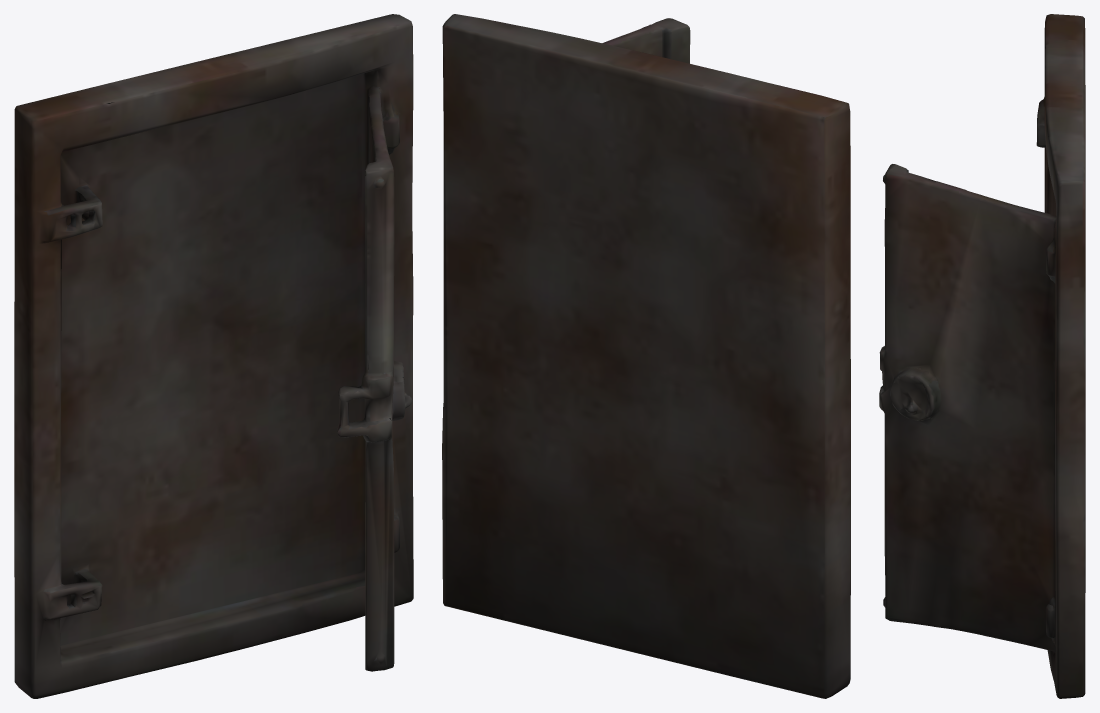
File: chipped-iron-cell-door-v001.glb
3 renders of one model, left to right at view 1: azimuth 30°, elevation 25°; view 2: azimuth 150°, elevation 25°; view 3: azimuth 270°, elevation 25°, orthographic. The views are drawn at different scales.
Parts seen in each view (by area): view 1: chipped-iron-cell-door; view 2: chipped-iron-cell-door; view 3: chipped-iron-cell-door.
Part boxes in pixels (x1,y1,x2,y2): chipped-iron-cell-door: (14,14,413,698); chipped-iron-cell-door: (442,14,850,698); chipped-iron-cell-door: (879,14,1085,698).
Bounding box in the file's own units: 1.46 × 2.09 × 0.7536.
1 material, 1 textured.
